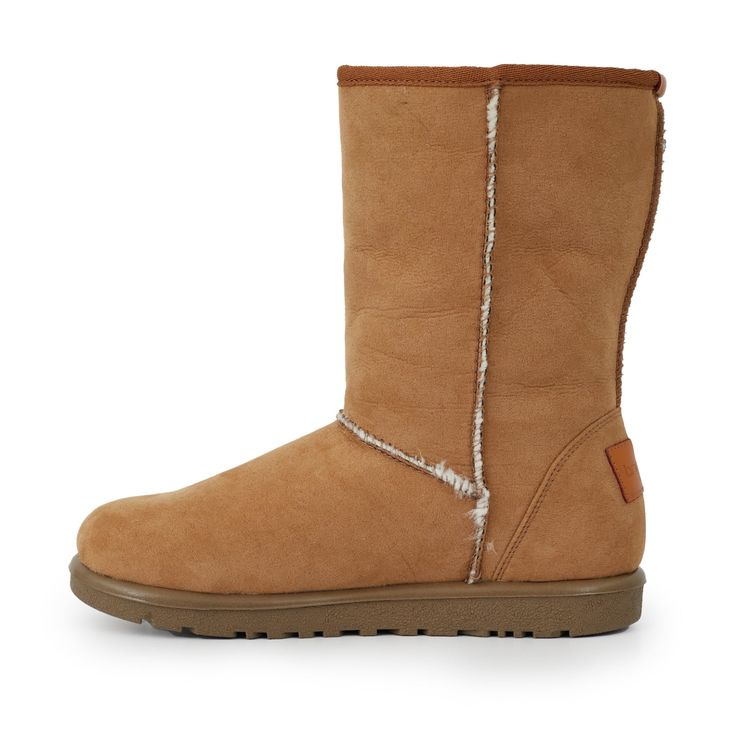gamuza: (77, 83, 667, 593)
